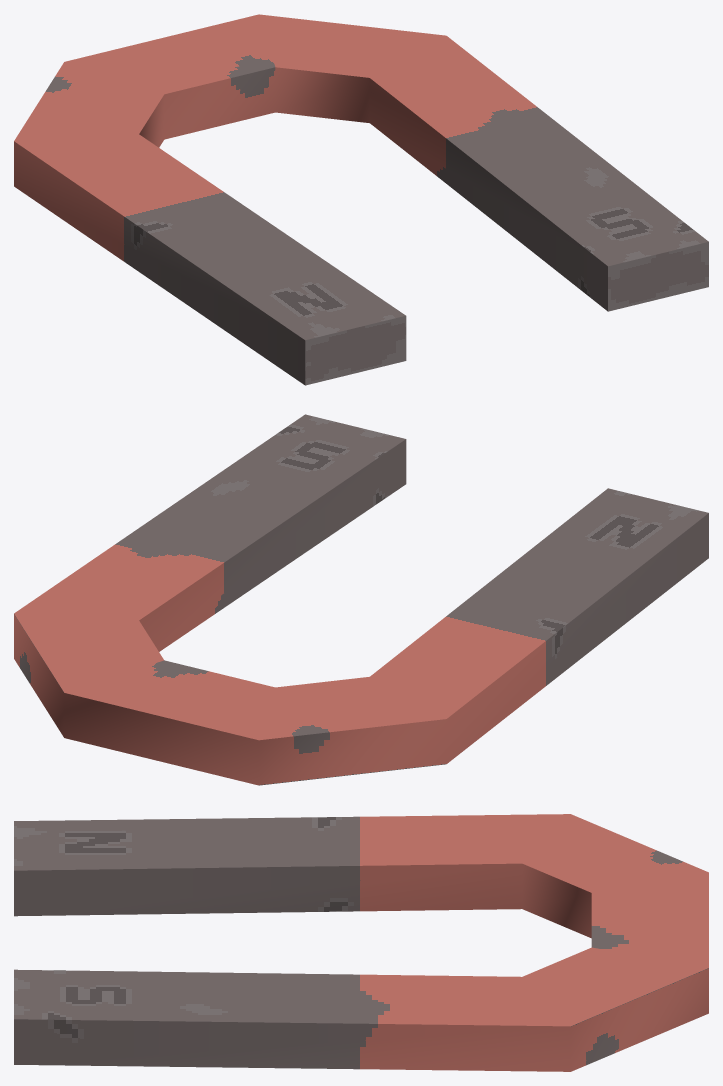
The model's file is 047a_Magnet.glb.
3 renders of one model, top to bottom at view 1: azimuth 30°, elevation 25°; view 2: azimuth 150°, elevation 25°; view 3: azimuth 270°, elevation 25°, orthographic.
Parts seen in each view (by area): view 1: part_0; view 2: part_0; view 3: part_0.
Boxes of the visible parts, x1,y1,x2,y2 form: part_0: [14, 14, 708, 385]; part_0: [14, 414, 708, 785]; part_0: [14, 814, 708, 1071].
Size of the model in its own units: 0.06 by 0.006 by 0.083.
Materials: 1 (1 with a texture image).
